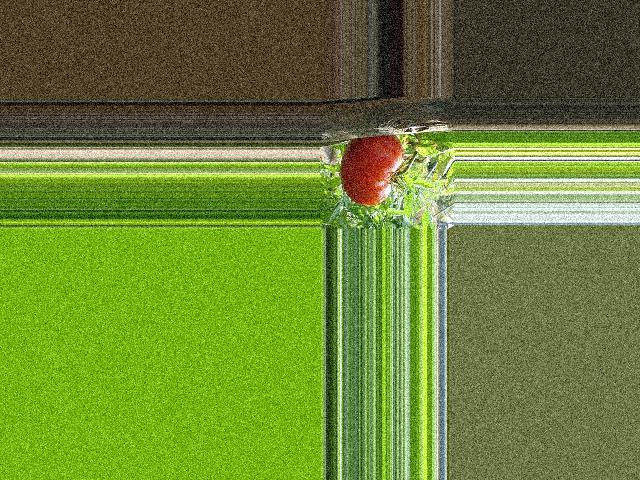tomato: (341, 134, 404, 206)
